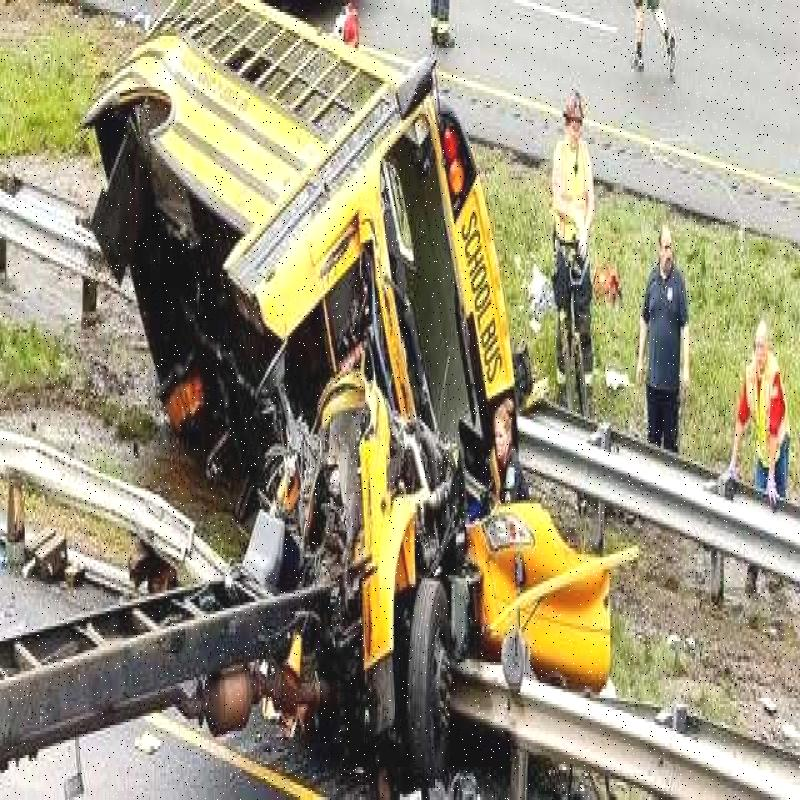bus: (132, 0, 552, 545)
